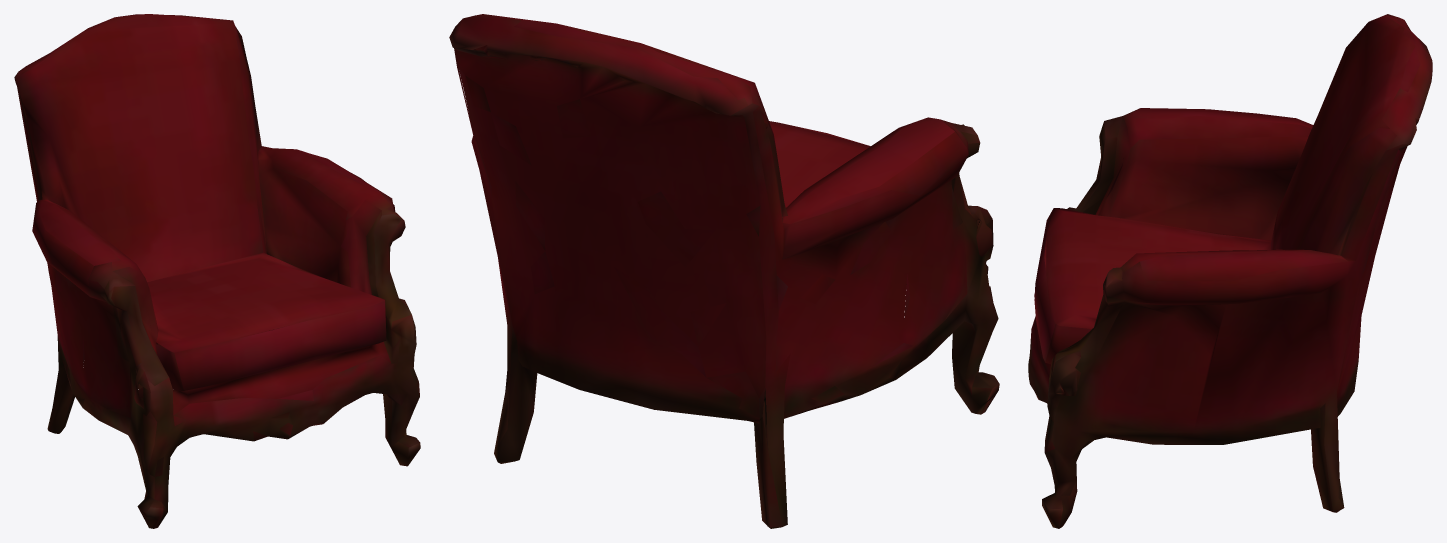
File: sillon_burdeo.movil.glb
3 views of the same model, side by side, from view 1: azimuth 30°, elevation 25°; view 2: azimuth 150°, elevation 25°; view 3: azimuth 270°, elevation 25° (orthographic). The views are drawn at different scales.
Parts seen in each view (by area): view 1: geometry_0; view 2: geometry_0; view 3: geometry_0.
Part boxes in pixels (left/top/right/bottom): geometry_0: left=14, top=14, right=420, bottom=528; geometry_0: left=449, top=14, right=999, bottom=528; geometry_0: left=1028, top=14, right=1432, bottom=528.
Size of the model in its own units: 0.8417 by 0.9494 by 0.85.
1 material, 1 textured.
